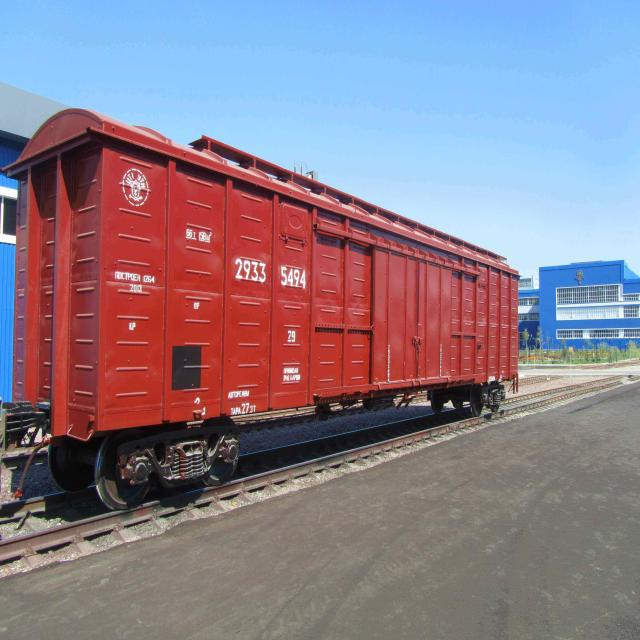Boxcar: (13, 108, 520, 439)
Cart: (97, 420, 240, 513), (468, 380, 505, 420)
Coupling: (1, 398, 51, 502)
